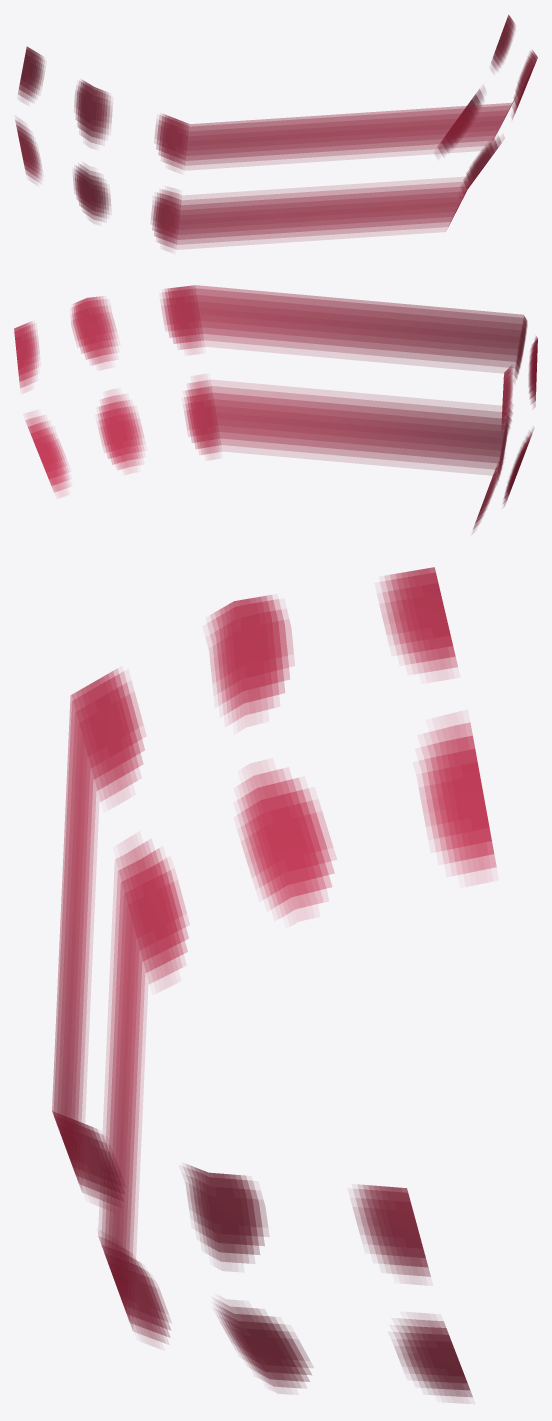
3 views of the same model, one above another, from view 1: azimuth 30°, elevation 25°; view 2: azimuth 150°, elevation 25°; view 3: azimuth 270°, elevation 25° (orthographic). The views are drawn at different scales.
Parts seen in each view (by area): view 1: ef_482; view 2: ef_482; view 3: ef_482.
Boxes of the visible parts, x1,y1,x2,y2 form: ef_482: (15, 15, 537, 251); ef_482: (14, 285, 537, 533); ef_482: (52, 567, 496, 1402).
Size of the model in its own units: 0.8292 by 0.3682 by 0.3356.
1 material, 1 textured.
